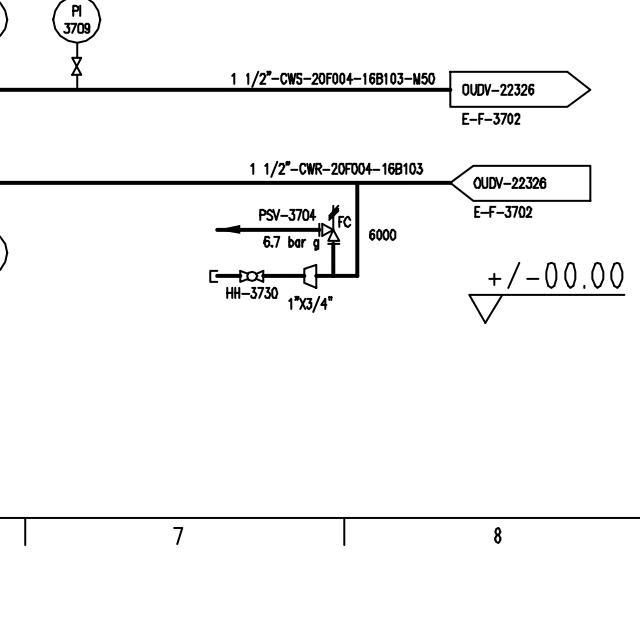BV2: (236, 266, 267, 283)
EC: (201, 267, 231, 288)
GV: (69, 52, 85, 78)
RPV: (317, 200, 345, 248)
SP: (299, 263, 320, 288)
